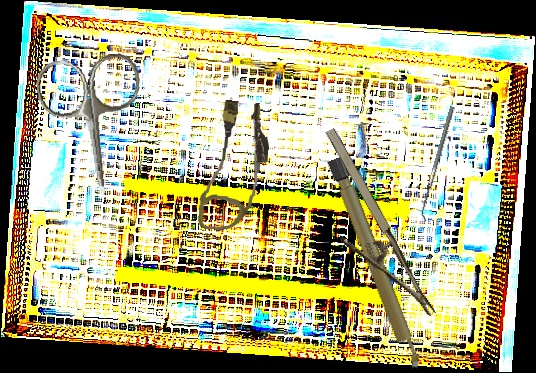Cannula: (197, 98, 273, 234)
Iris Scissors: (33, 51, 154, 202)
Needle Holder: (293, 124, 437, 337)
Scalpel Handle: (326, 155, 425, 373)
Spatula Surgical: (418, 106, 459, 221)
